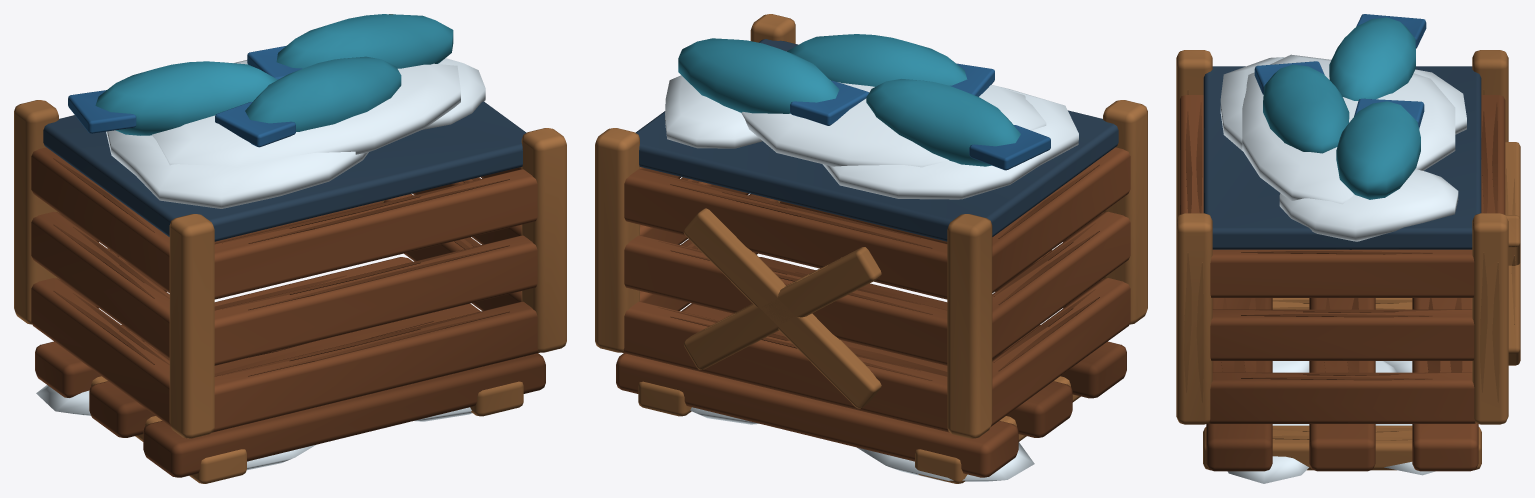
The model's file is fish_crate.glb.
3 renders of one model, left to right at view 1: azimuth 30°, elevation 25°; view 2: azimuth 150°, elevation 25°; view 3: azimuth 270°, elevation 25°, orthographic. The views are drawn at different scales.
Visible parts, largest first — view 1: fish_crate; view 2: fish_crate; view 3: fish_crate.
Part boxes in pixels (left/top/right/bottom): fish_crate: left=14, top=14, right=566, bottom=483; fish_crate: left=595, top=14, right=1147, bottom=483; fish_crate: left=1176, top=14, right=1520, bottom=483.
Bounding box in the file's own units: 1.45 × 1.21 × 1.14.
